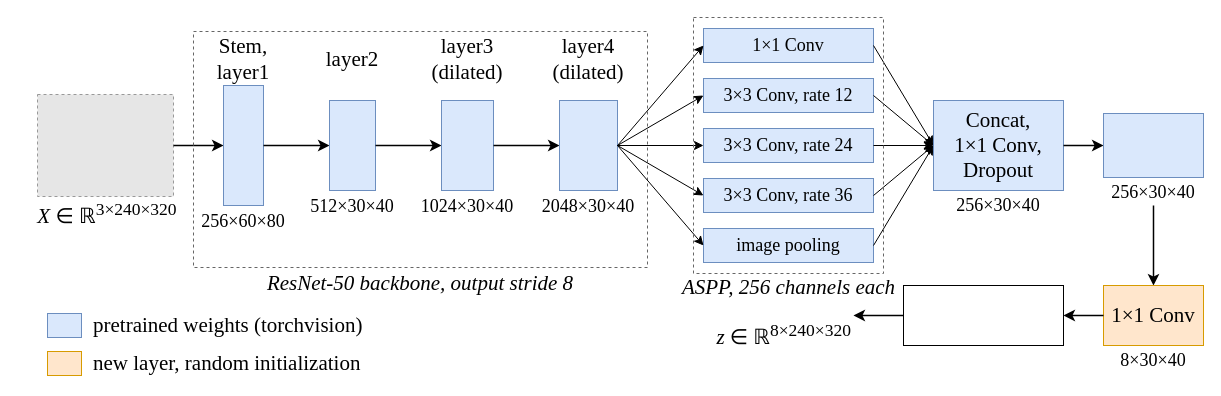
This 1221x396 diagram has some shape labels left out. Grey dashed boxes stand in for pictures. The shapes that lost their labels are listed below. From the top down, each one's centre as x and y in pixels, then its label:
At point (1153, 145): "3×3 Conv".
At point (983, 315): "Bilinear upsampling ×8".
